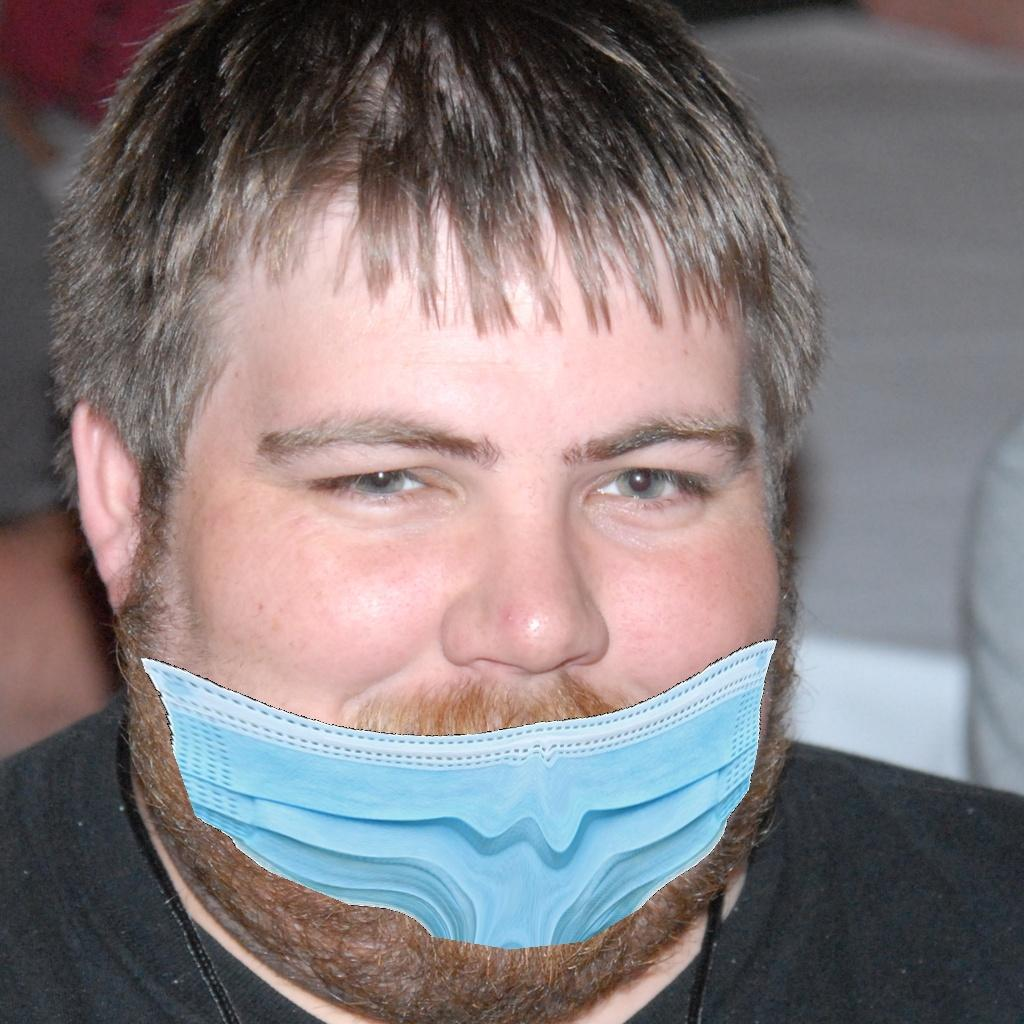Máscara Incorreta: (173, 262, 759, 916)
